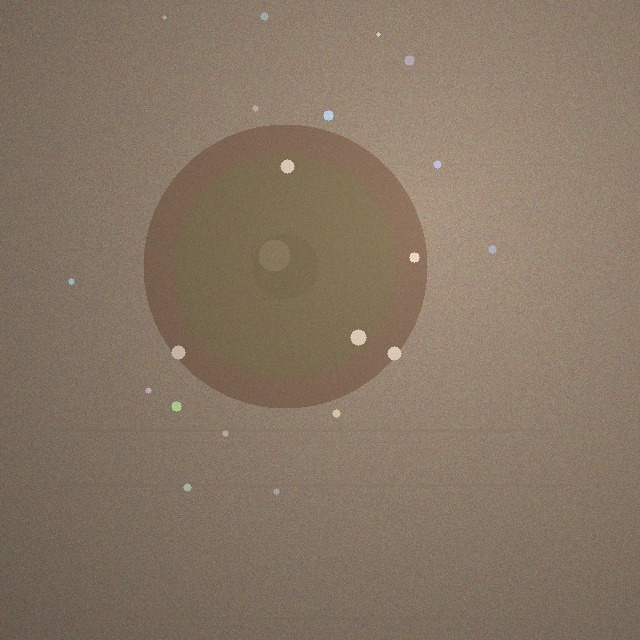overburn: (143, 124, 427, 408)
